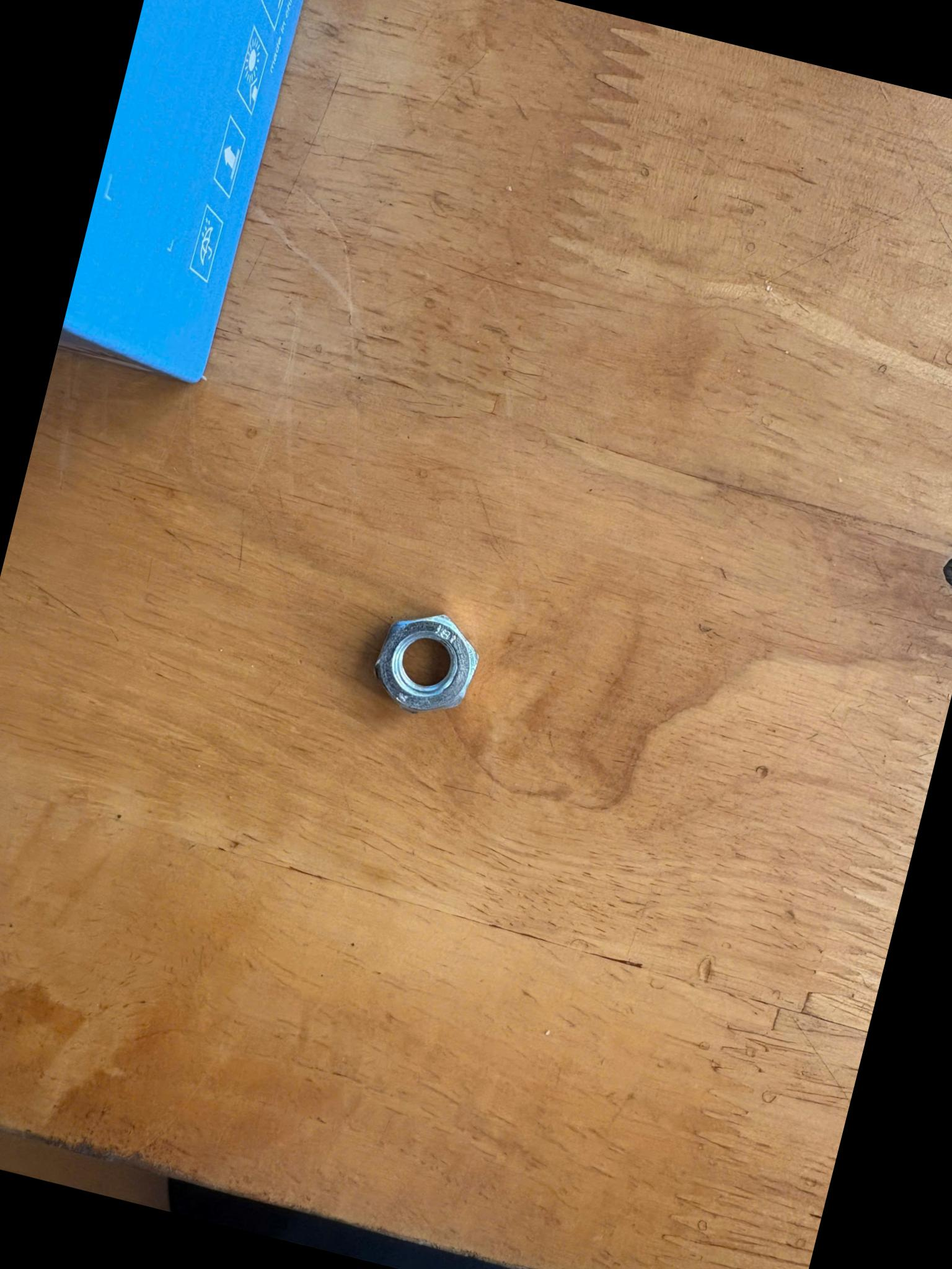nut: (344, 585, 494, 743)
